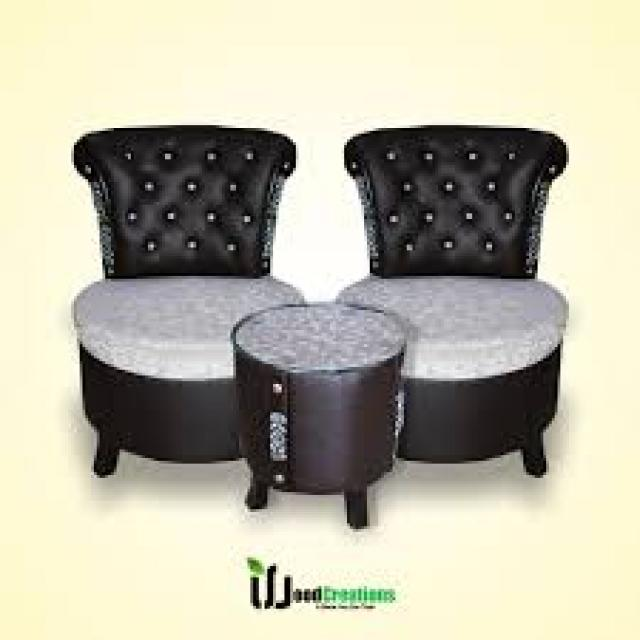chair: (70, 121, 318, 488), (330, 126, 576, 484)
